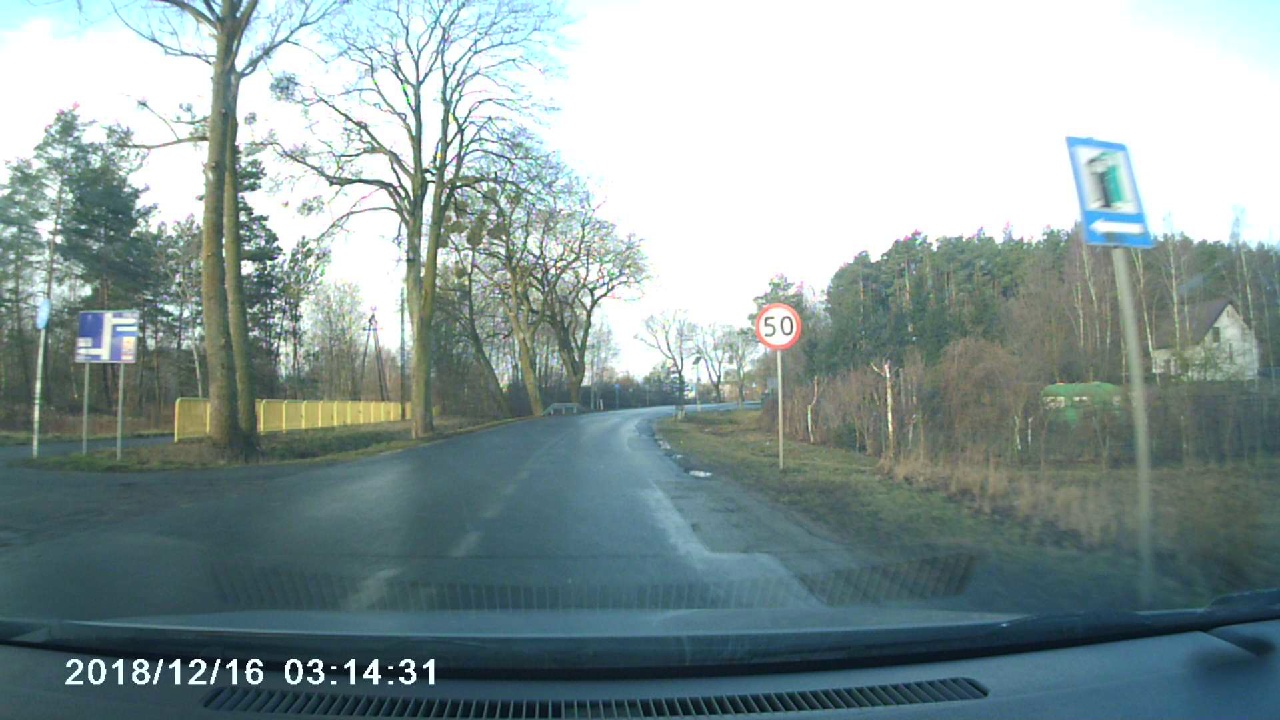B33_50: (755, 303, 803, 350)
